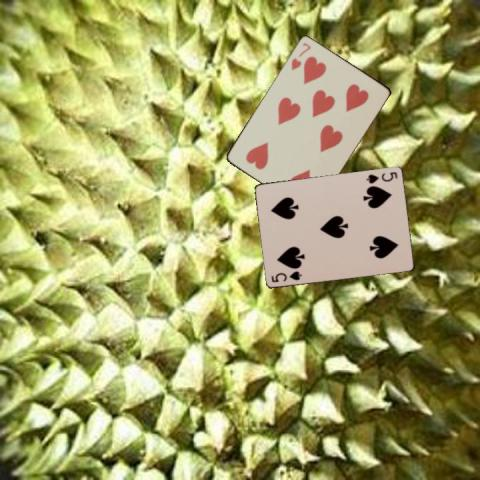5s: (363, 168, 399, 184), (269, 268, 303, 283)
7h: (288, 40, 312, 72)
